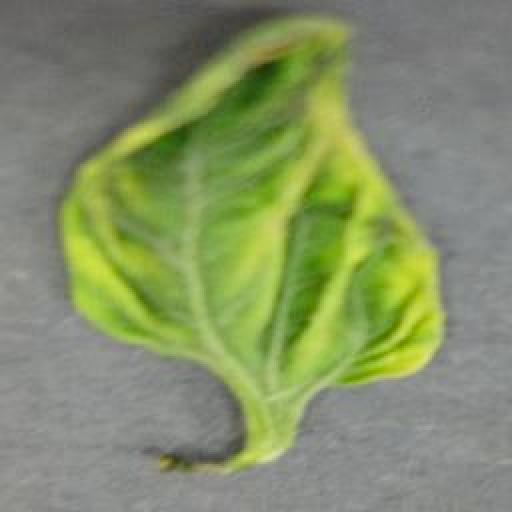disease_tomato: (54, 14, 448, 388)
